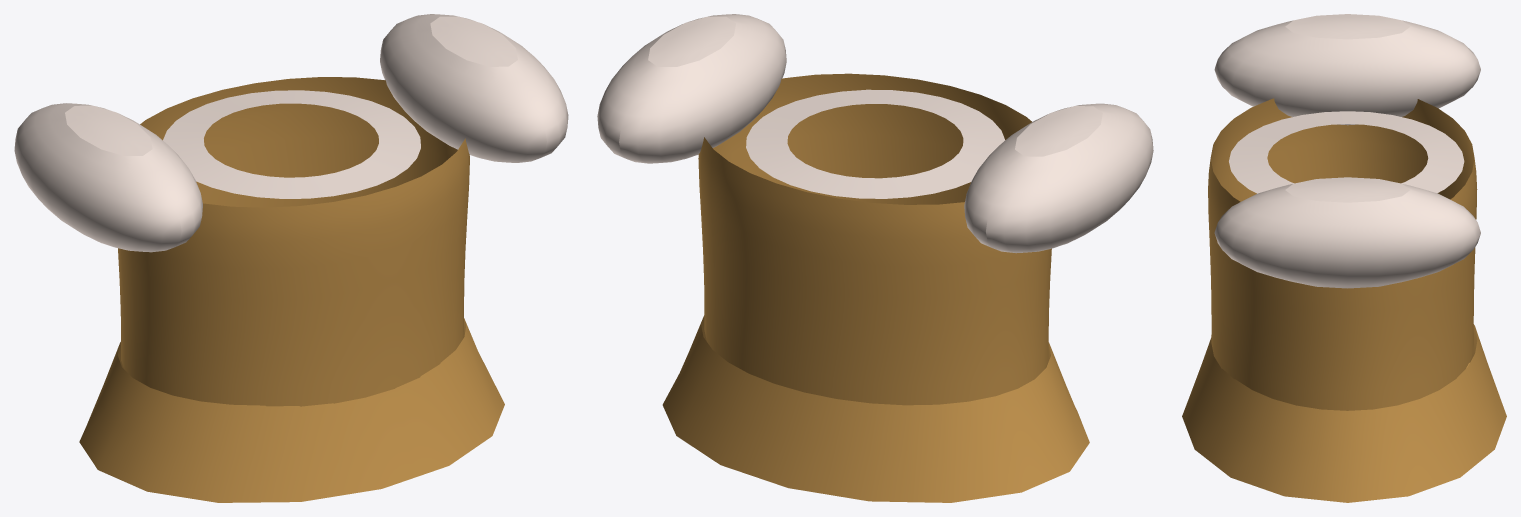
Rendered from armor_plate.glb.
3 renders of one model, left to right at view 1: azimuth 30°, elevation 25°; view 2: azimuth 150°, elevation 25°; view 3: azimuth 270°, elevation 25°, orthographic. The views are drawn at different scales.
Parts seen in each view (by area): view 1: armor_plate; view 2: armor_plate; view 3: armor_plate.
Boxes of the visible parts, x1=… form: armor_plate: x1=14, y1=14, x2=568, y2=502; armor_plate: x1=597, y1=14, x2=1153, y2=502; armor_plate: x1=1182, y1=14, x2=1506, y2=502.
Bounding box in the file's own units: 0.5487 × 0.3665 × 0.3465.
